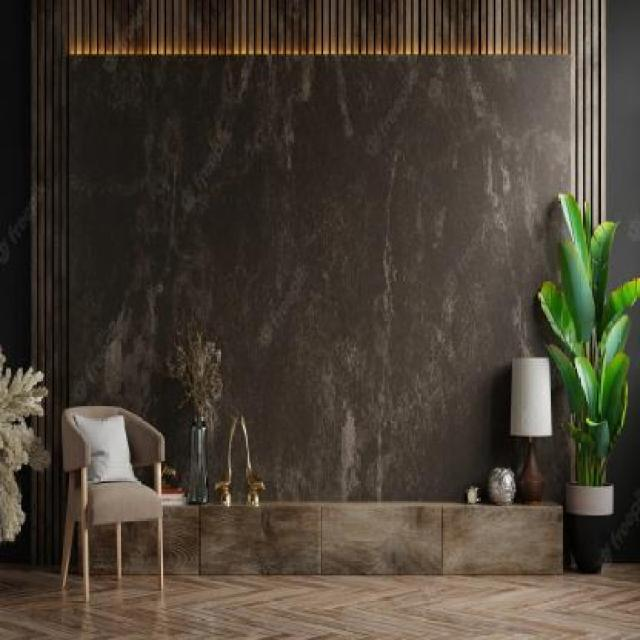Floor: (0, 563, 640, 639)
